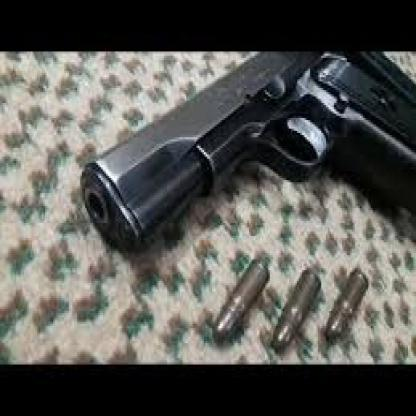Pistol: (71, 0, 397, 334)
